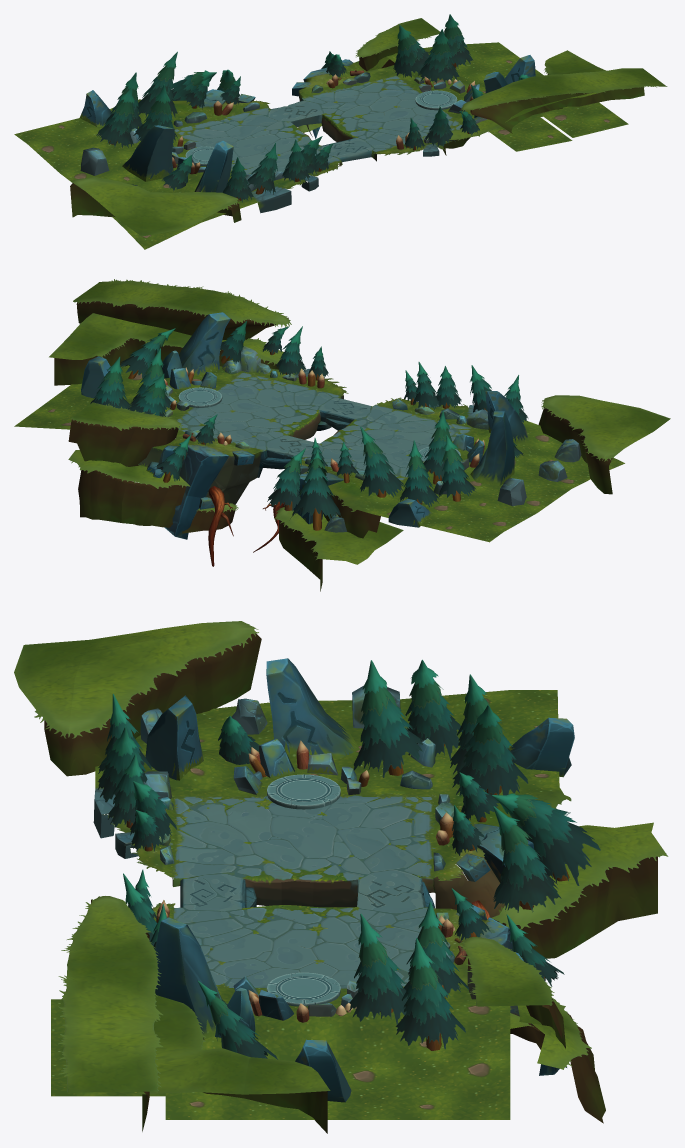
File: forest_atlas.fbx
The picture shows the model from 3 angles, top to bottom: view 1: azimuth 30°, elevation 25°; view 2: azimuth 150°, elevation 25°; view 3: azimuth 270°, elevation 25°; orthographic projection. The views are drawn at different scales.
Visible parts, largest first — view 1: forest_uv2; view 2: forest_uv2; view 3: forest_uv2.
Part boxes in pixels (left/top/right/bottom): forest_uv2: left=14, top=14, right=667, bottom=249; forest_uv2: left=14, top=279, right=670, bottom=591; forest_uv2: left=14, top=621, right=668, bottom=1133.
Size of the model in its own units: 6075 by 1558 by 3588.
